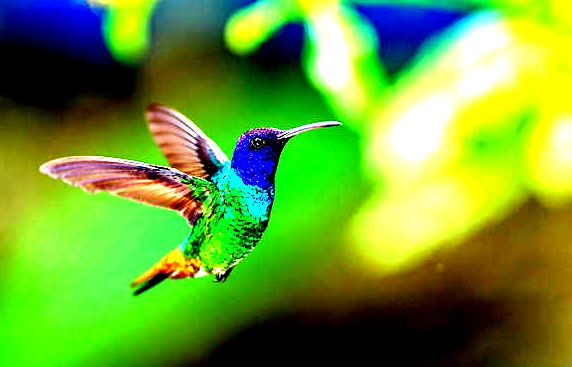Bird: (33, 98, 342, 298)
